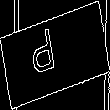P_S: (39, 26, 71, 84)
